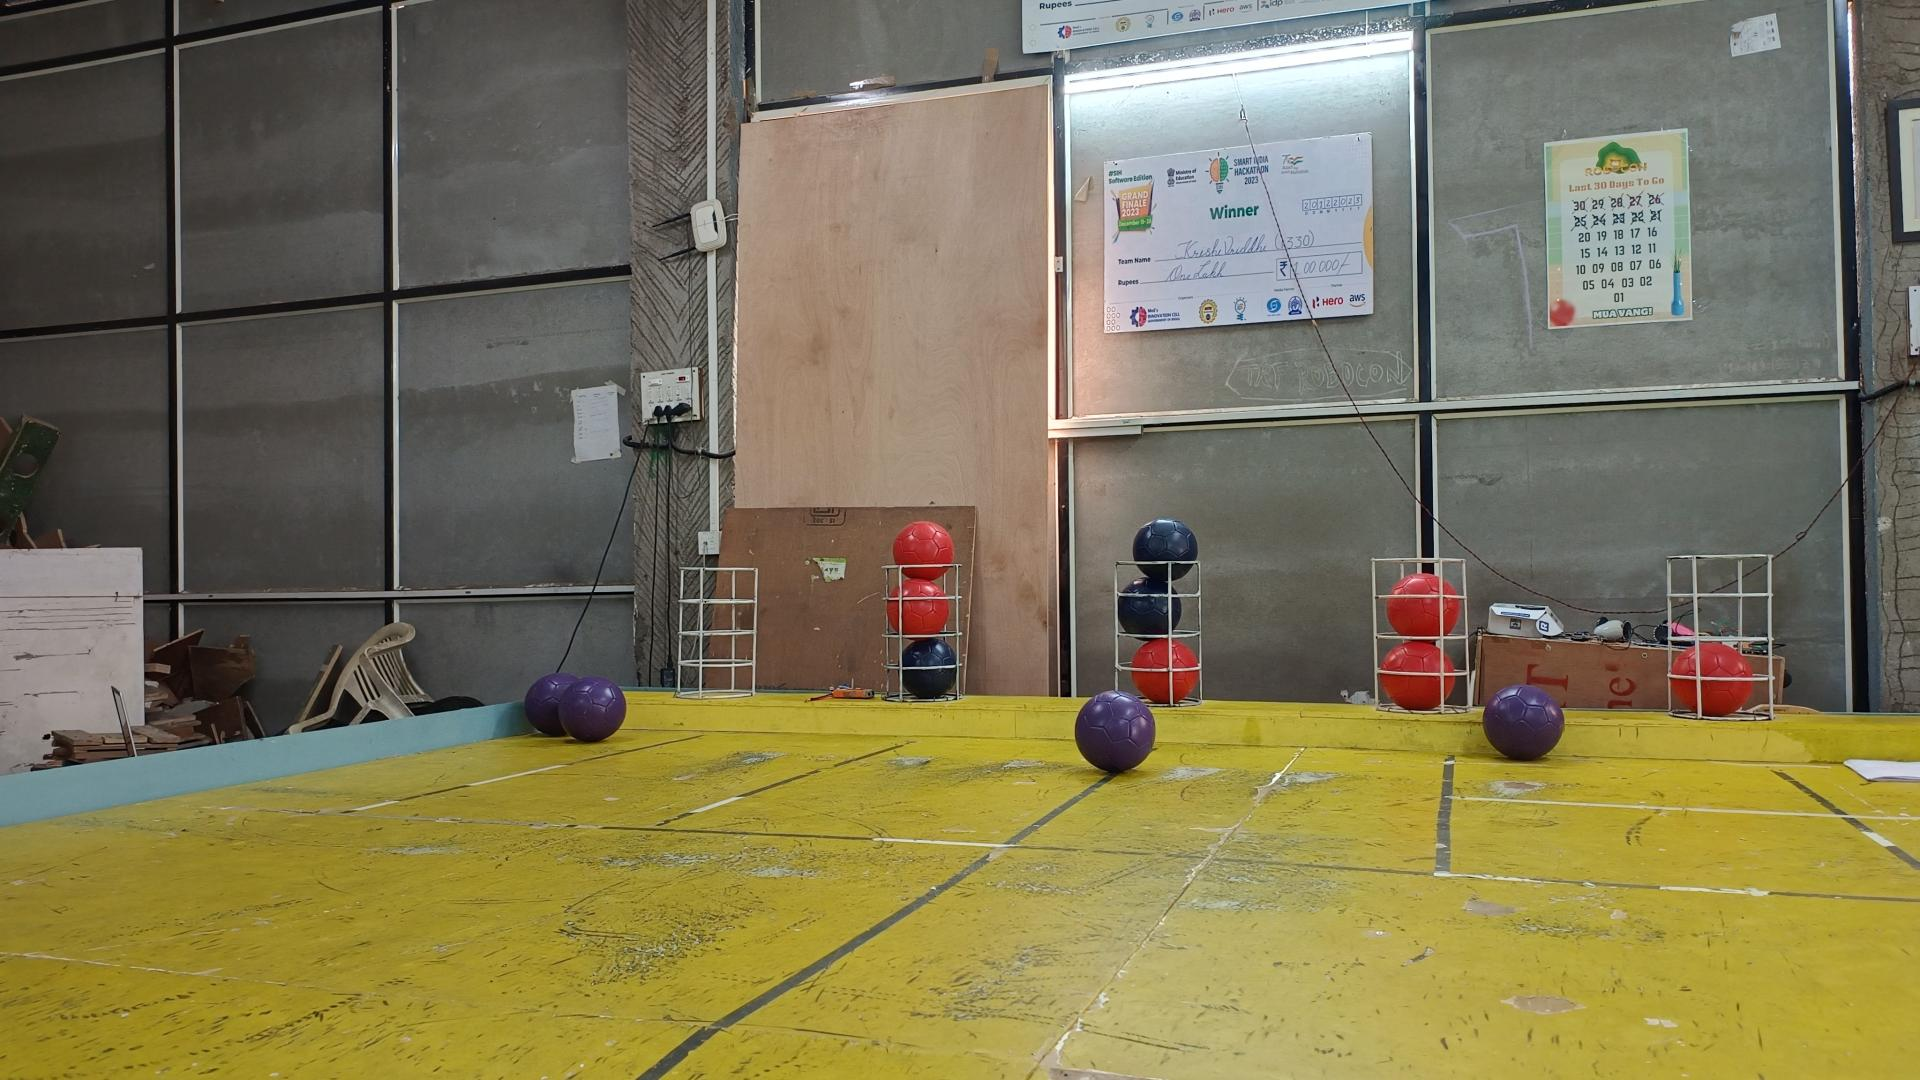dhoka: (1133, 517, 1196, 582), (1117, 578, 1182, 634), (903, 637, 956, 698)
laale: (1668, 641, 1755, 716), (1379, 641, 1455, 708), (1387, 574, 1462, 637), (1129, 637, 1200, 702), (893, 521, 952, 582), (885, 578, 948, 634)
